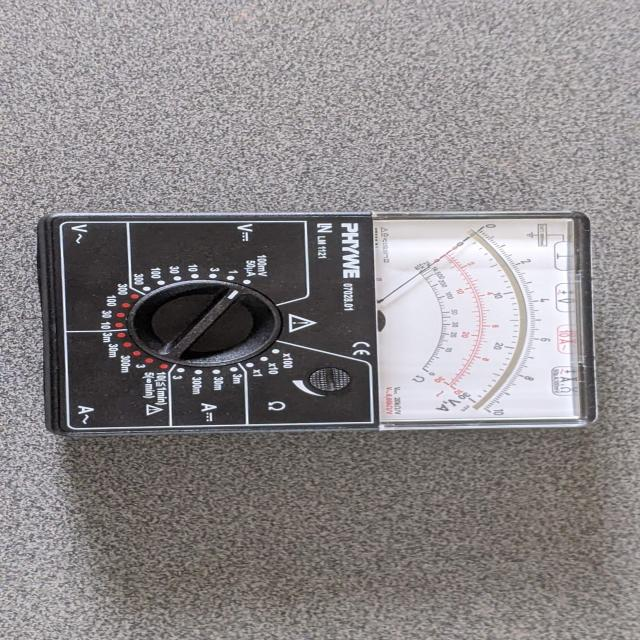Analog Multimeter: (18, 196, 637, 449)
